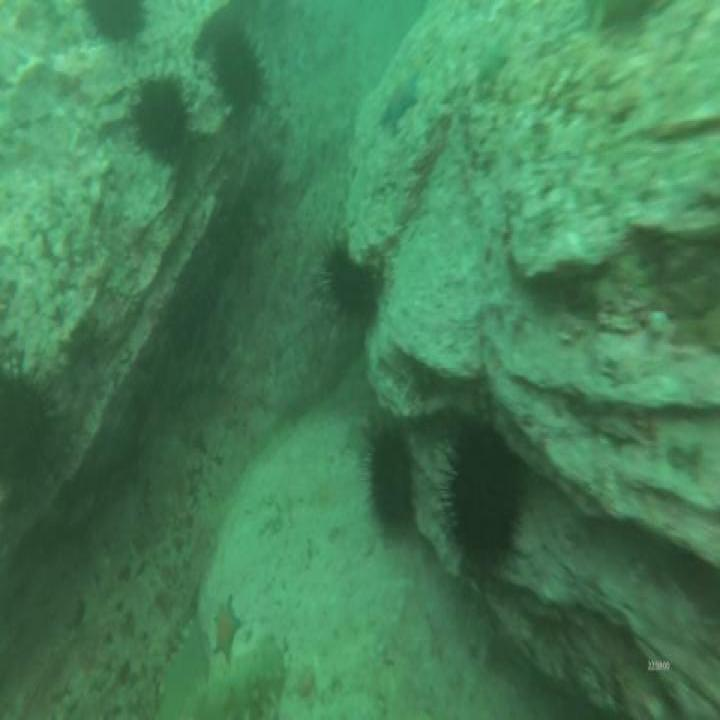echinus: (445, 421, 525, 562), (0, 370, 51, 487), (369, 427, 419, 528), (210, 30, 262, 118), (134, 75, 185, 160), (325, 243, 376, 326), (88, 0, 140, 53)
starfish: (381, 78, 421, 137), (472, 39, 511, 87), (211, 594, 237, 658)
